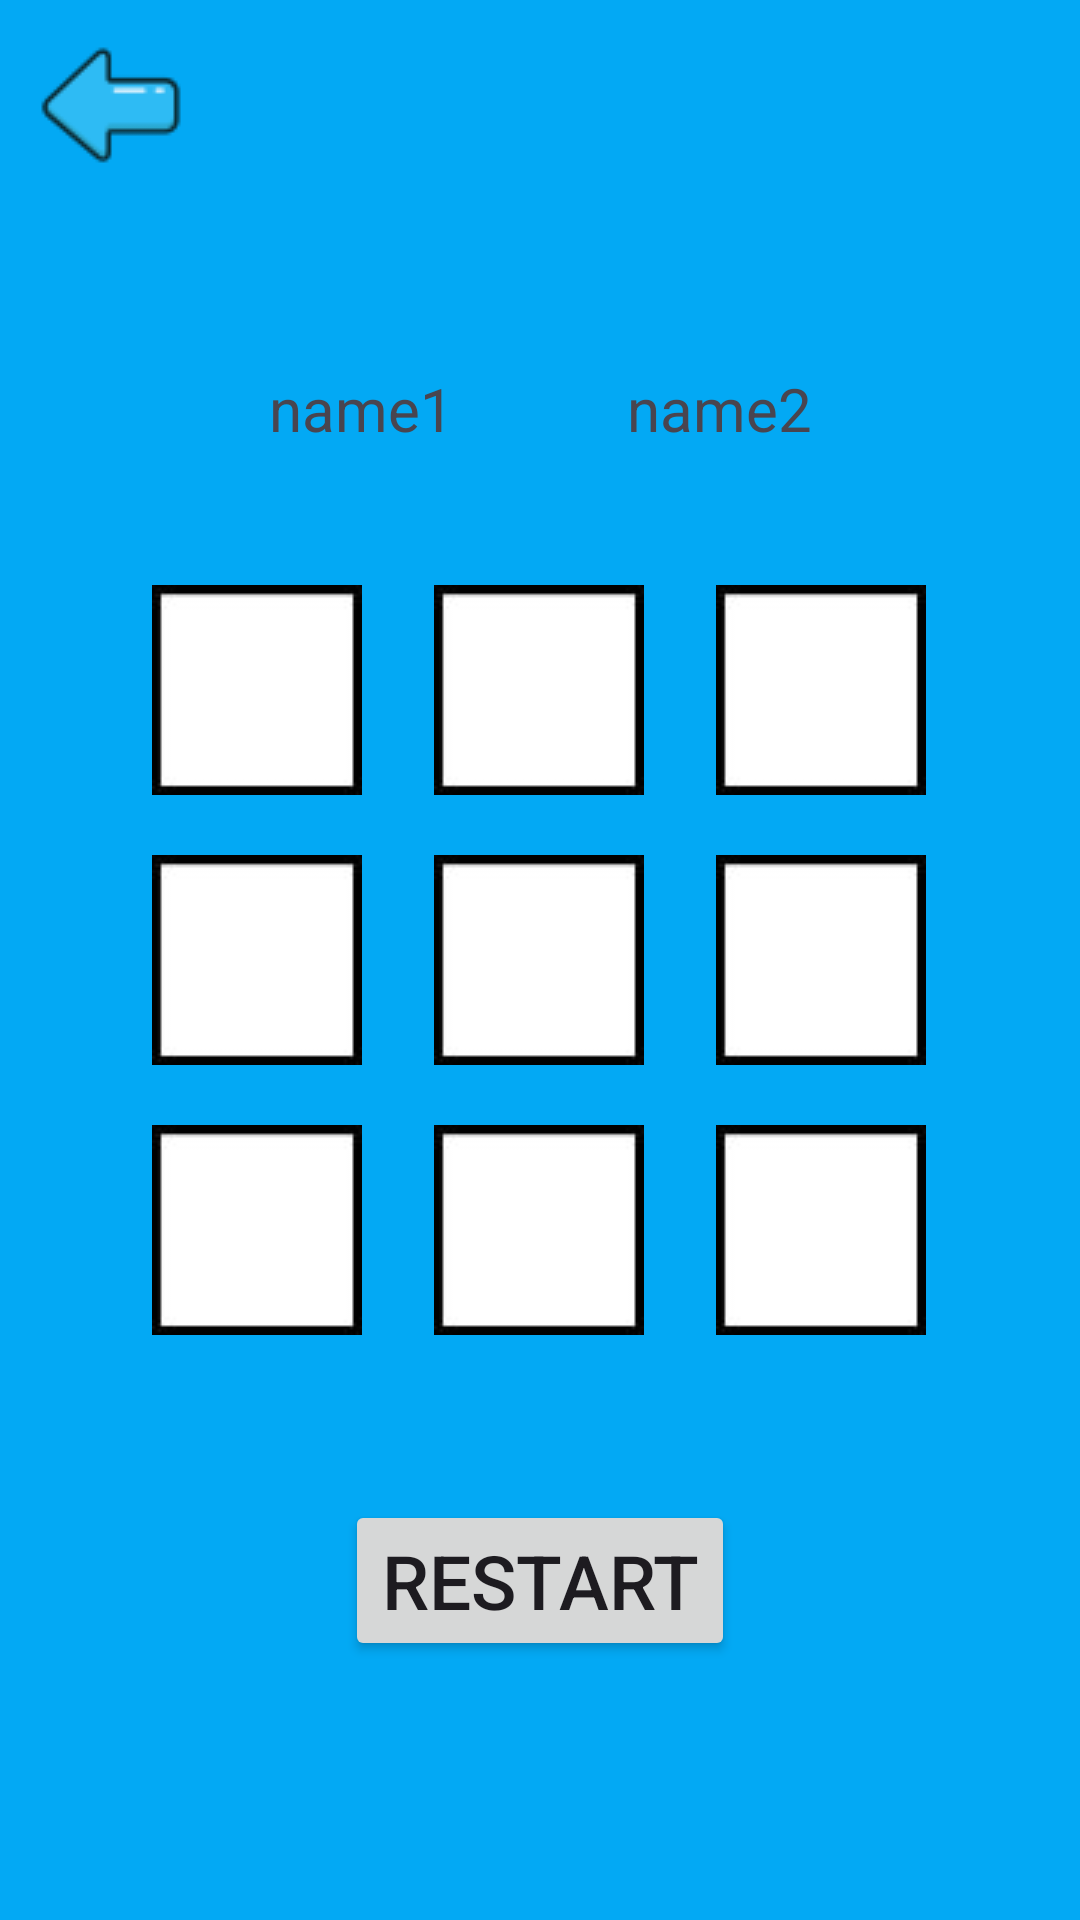

Named icons in this screenshot (1080w x 1920h) and their centers, (x=x, y=y):
left arrow: (x=111, y=105)
